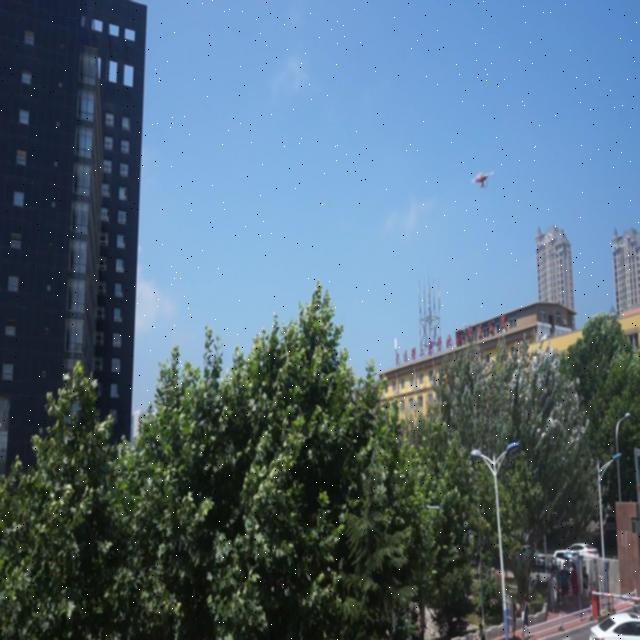UAV: (470, 170, 496, 190)
